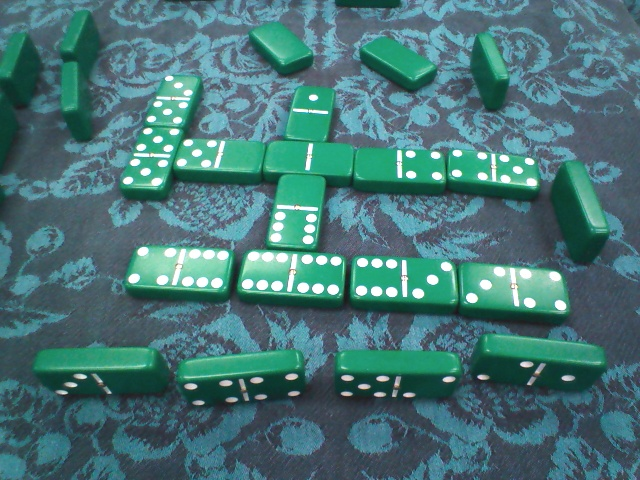A: (347, 30, 444, 90), (241, 18, 323, 76)
B: (232, 236, 348, 310), (453, 255, 574, 324), (130, 233, 237, 304), (342, 245, 460, 307), (440, 142, 542, 201), (351, 141, 445, 199), (176, 132, 269, 186), (263, 135, 356, 189), (265, 168, 327, 248), (123, 126, 179, 200), (136, 70, 205, 130), (283, 84, 338, 148)
C: (53, 61, 101, 144), (53, 8, 105, 75), (1, 33, 50, 103), (2, 90, 22, 179)
D: (544, 163, 614, 270), (463, 34, 519, 108)
E: (468, 328, 610, 399), (28, 343, 170, 405), (173, 349, 308, 412), (328, 349, 465, 405)
